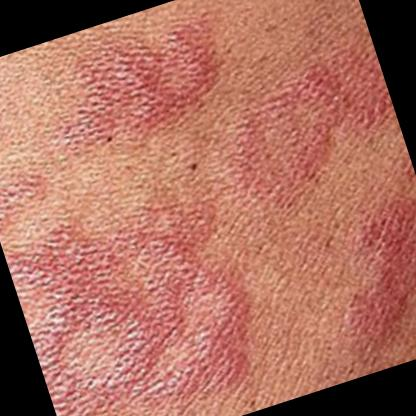Leprosy: (3, 177, 284, 416), (198, 40, 412, 222), (25, 11, 237, 169), (286, 165, 416, 375), (0, 157, 60, 233), (0, 60, 16, 156)
